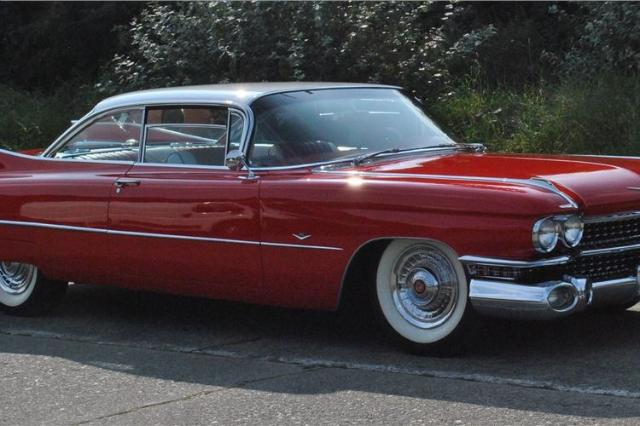cadillac: (0, 82, 640, 356)
